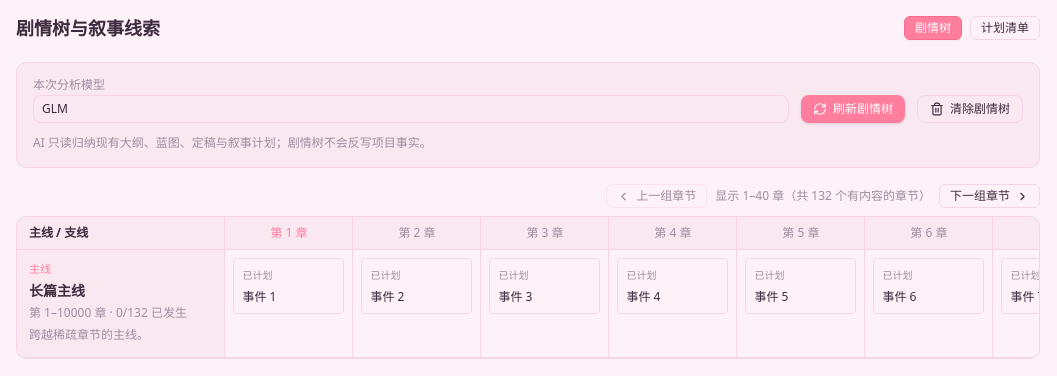
NarrativeThreadEditor › keeps sparse and long plot histories inside a bounded chapter window
Click the button "下一组章节": (990, 196) top-left (939, 184), bottom-right (1040, 208)
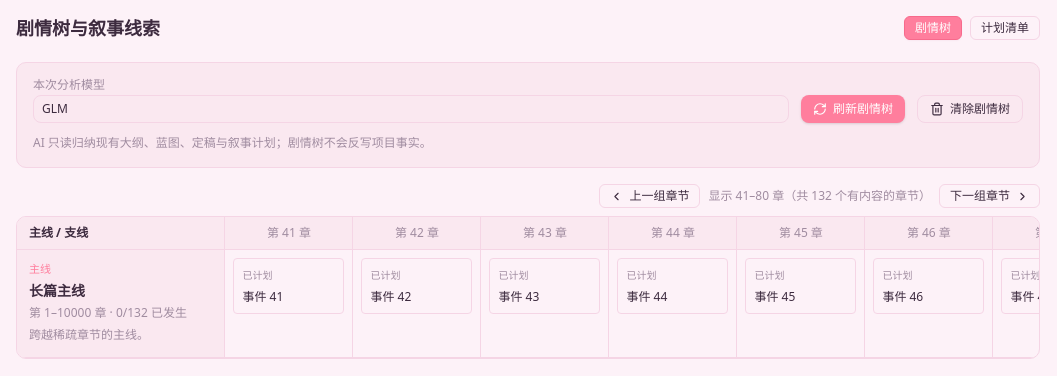
Expected: the text "第 41 章" is shown, top-left (225, 217), bottom-right (353, 250)
